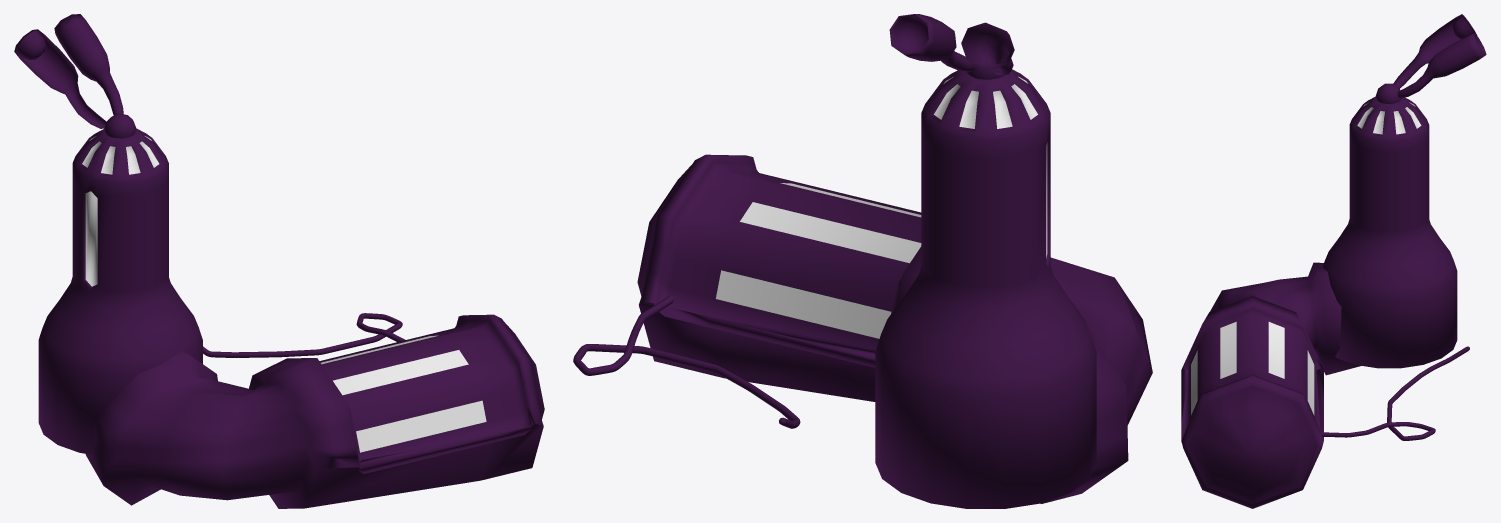
File: weapons_core.fbx
3 views of the same model, side by side, from view 1: azimuth 30°, elevation 25°; view 2: azimuth 150°, elevation 25°; view 3: azimuth 270°, elevation 25° (orthographic). The views are drawn at different scales.
Parts seen in each view (by area): view 1: Cube.045; view 2: Cube.045; view 3: Cube.045.
Boxes of the visible parts, left/top/right/bottom form: Cube.045: left=14, top=14, right=544, bottom=508; Cube.045: left=573, top=14, right=1152, bottom=508; Cube.045: left=1181, top=14, right=1486, bottom=508.
Bounding box in the file's own units: 1208 × 1240 × 966.
